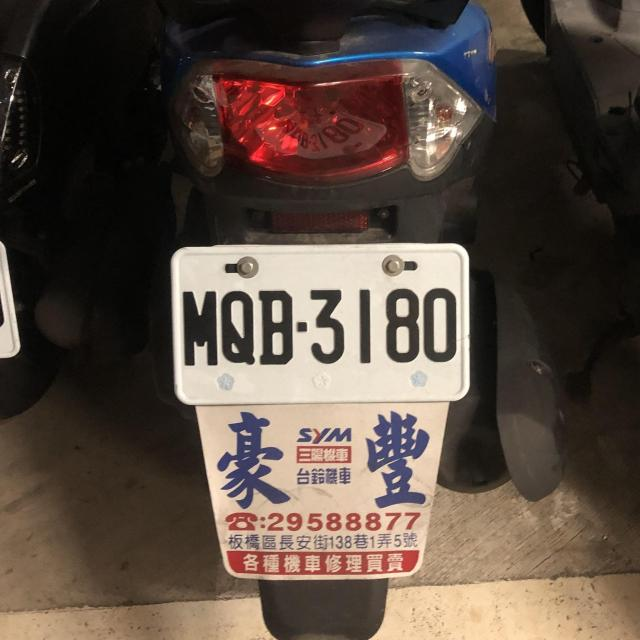W: (163, 235, 473, 400), (0, 230, 27, 390)
